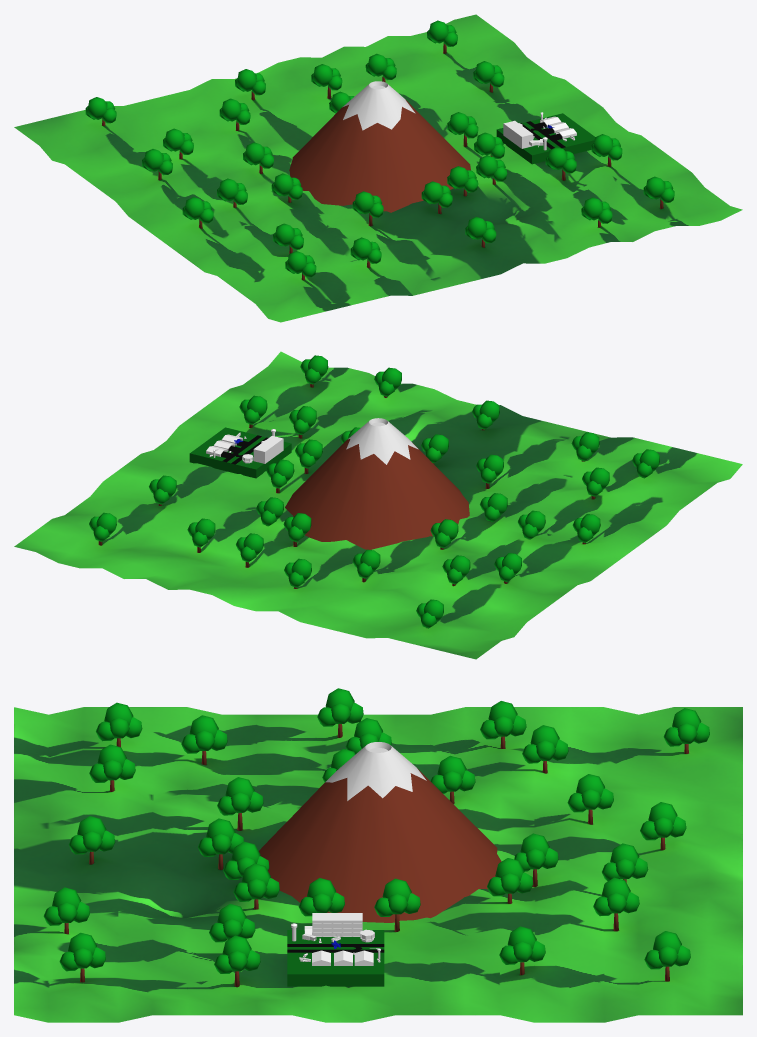
The model's file is BaseLayoutWithAirport.glb.
3 views of the same model, one above another, from view 1: azimuth 30°, elevation 25°; view 2: azimuth 150°, elevation 25°; view 3: azimuth 270°, elevation 25° (orthographic). The views are drawn at different scales.
Visible parts, largest first — view 1: GROUND, Models; view 2: GROUND, Models; view 3: GROUND, Models.
Boxes of the visible parts, x1,y1,x2,y2 form: GROUND: (14, 14, 742, 322); Models: (85, 20, 674, 280); GROUND: (14, 351, 742, 659); Models: (89, 355, 659, 628); GROUND: (14, 707, 742, 1022); Models: (43, 688, 709, 987).
Bounding box in the file's own units: 1023 × 203 × 1023.
8 materials, 2 textured.
